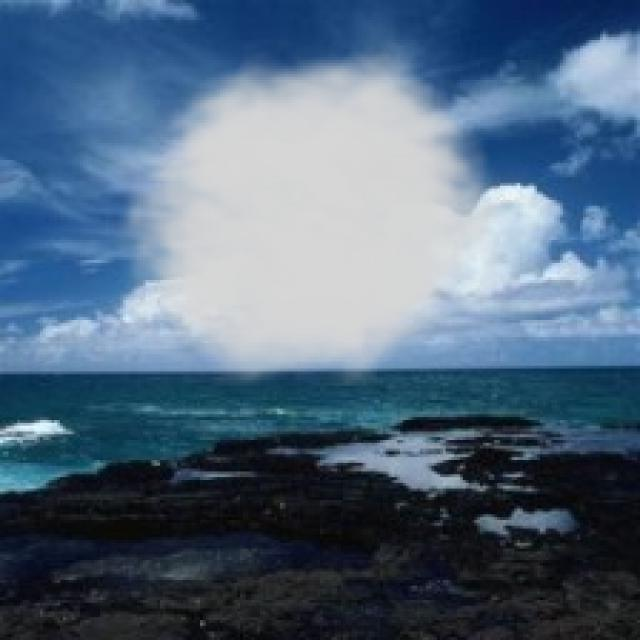smoke: (106, 37, 514, 386)
